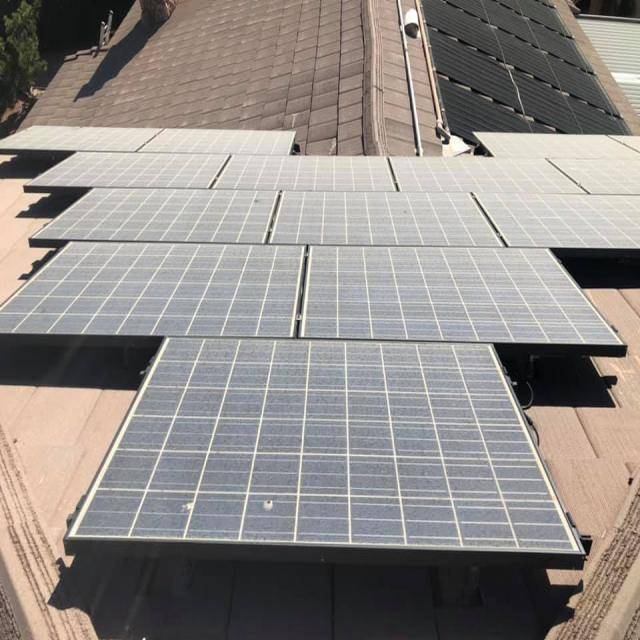dust-solar-panel: (0, 122, 639, 556)
